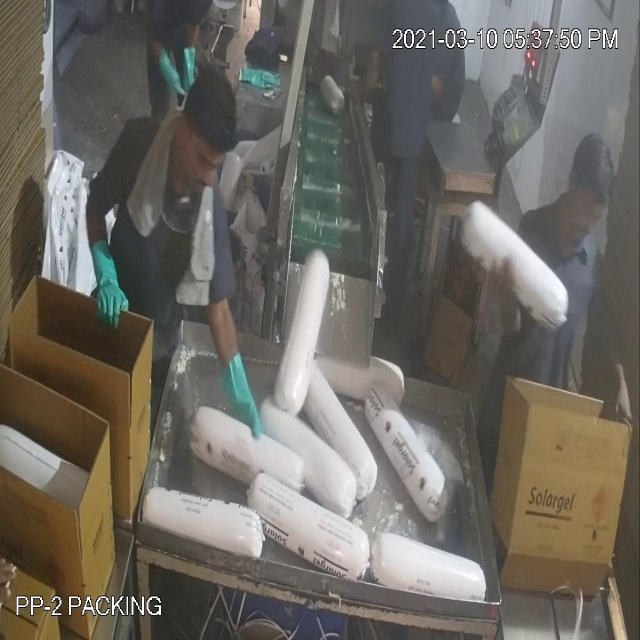Guantes: (84, 220, 133, 341)
